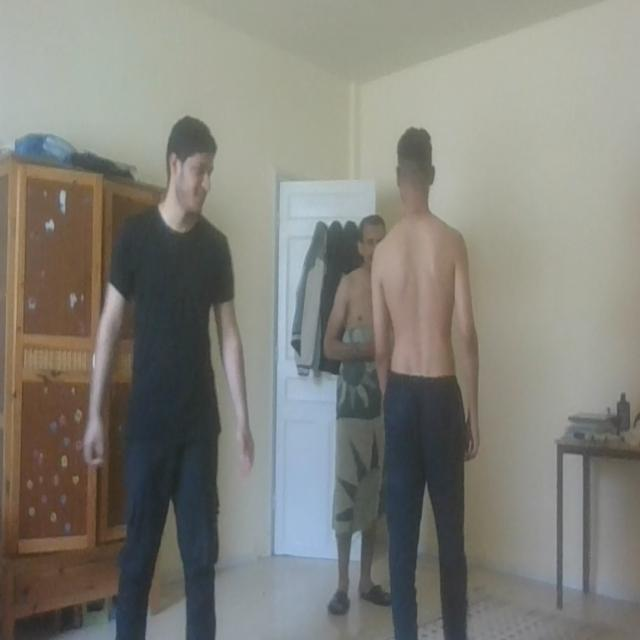non_violence: (92, 84, 496, 640), (318, 108, 497, 640), (94, 97, 266, 640)
